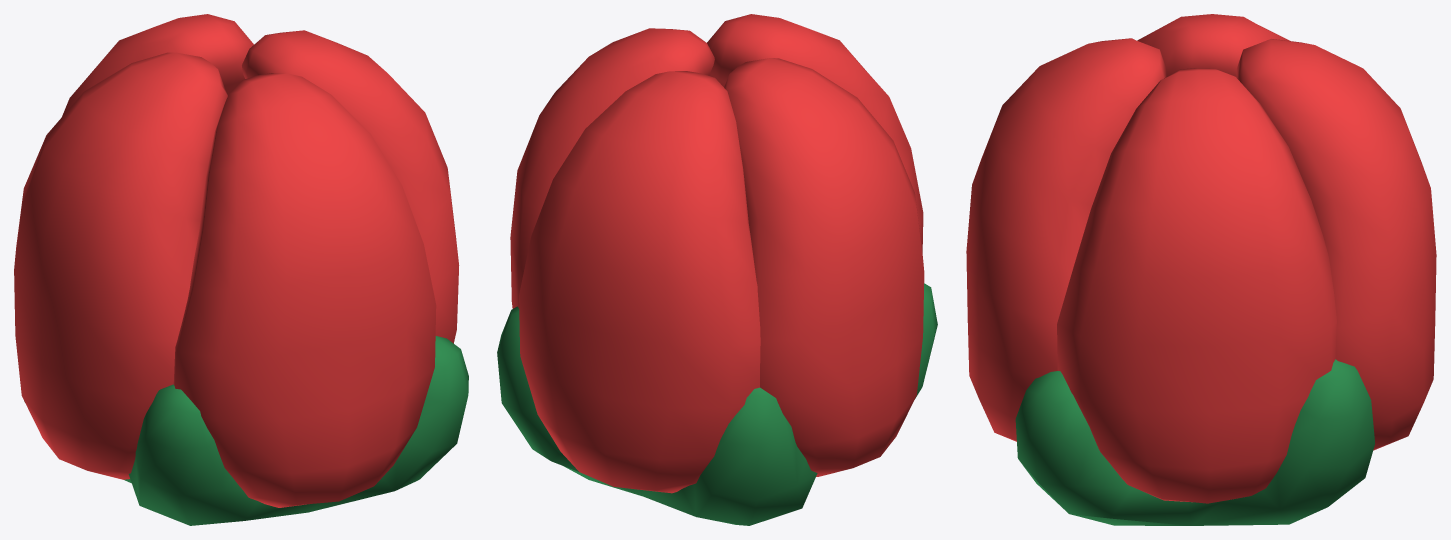
File: FlowerHead2.fbx
3 views of the same model, side by side, from view 1: azimuth 30°, elevation 25°; view 2: azimuth 150°, elevation 25°; view 3: azimuth 270°, elevation 25° (orthographic). The views are drawn at different scales.
Parts seen in each view (by area): view 1: FlowerHead.Blue; view 2: FlowerHead.Blue; view 3: FlowerHead.Blue.
Boxes of the visible parts, x1=… form: FlowerHead.Blue: x1=14, y1=14, x2=468, y2=525; FlowerHead.Blue: x1=497, y1=14, x2=937, y2=525; FlowerHead.Blue: x1=966, y1=14, x2=1436, y2=525.
Size of the model in its own units: 223 by 250 by 238.
